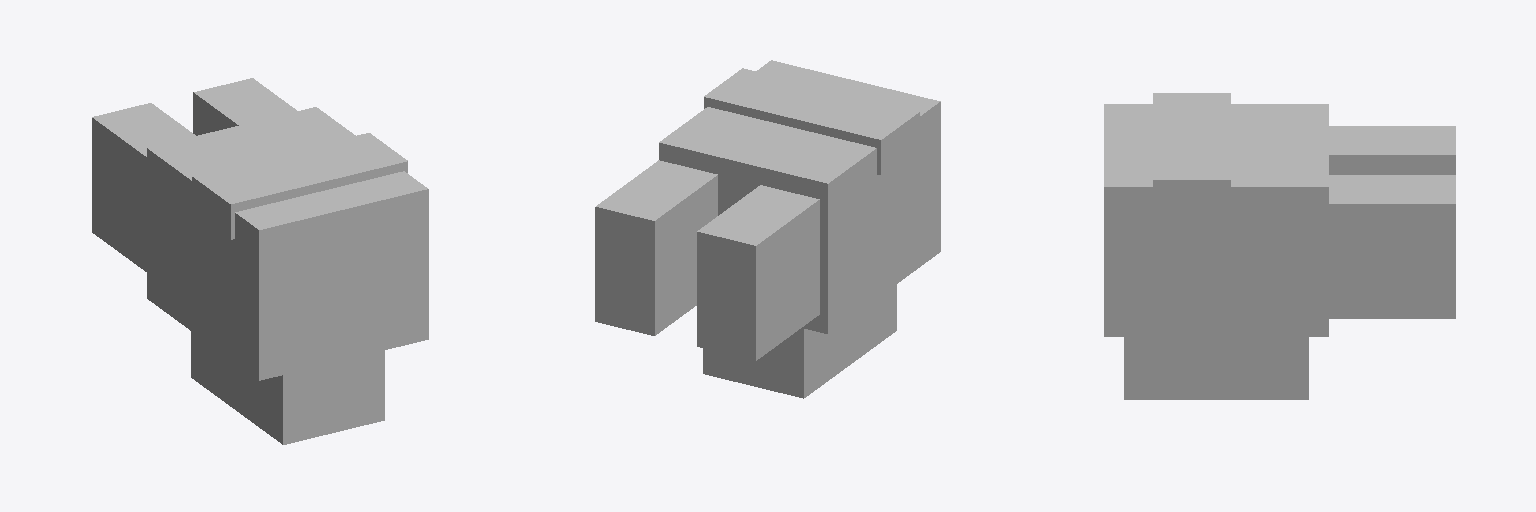
3 views of the same model, side by side, from view 1: azimuth 30°, elevation 25°; view 2: azimuth 150°, elevation 25°; view 3: azimuth 270°, elevation 25° (orthographic).
Parts seen in each view (by area): view 1: obj_0; view 2: obj_0; view 3: obj_0.
Boxes of the visible parts, x1=… form: obj_0: x1=92, y1=78, x2=428, y2=444; obj_0: x1=595, y1=60, x2=940, y2=398; obj_0: x1=1104, y1=93, x2=1455, y2=399.
Bounding box in the file's own units: 21 × 27 × 36.